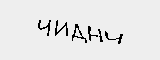Д: (68, 22, 86, 45)
И: (53, 19, 69, 39)
Н: (86, 24, 105, 43)
Ч: (103, 28, 124, 46), (37, 17, 52, 38)
